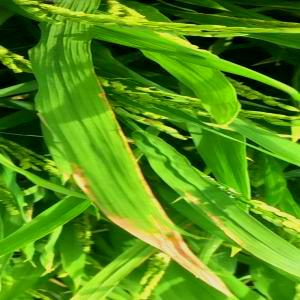2 BacterialBlight: (52, 22, 155, 251)
